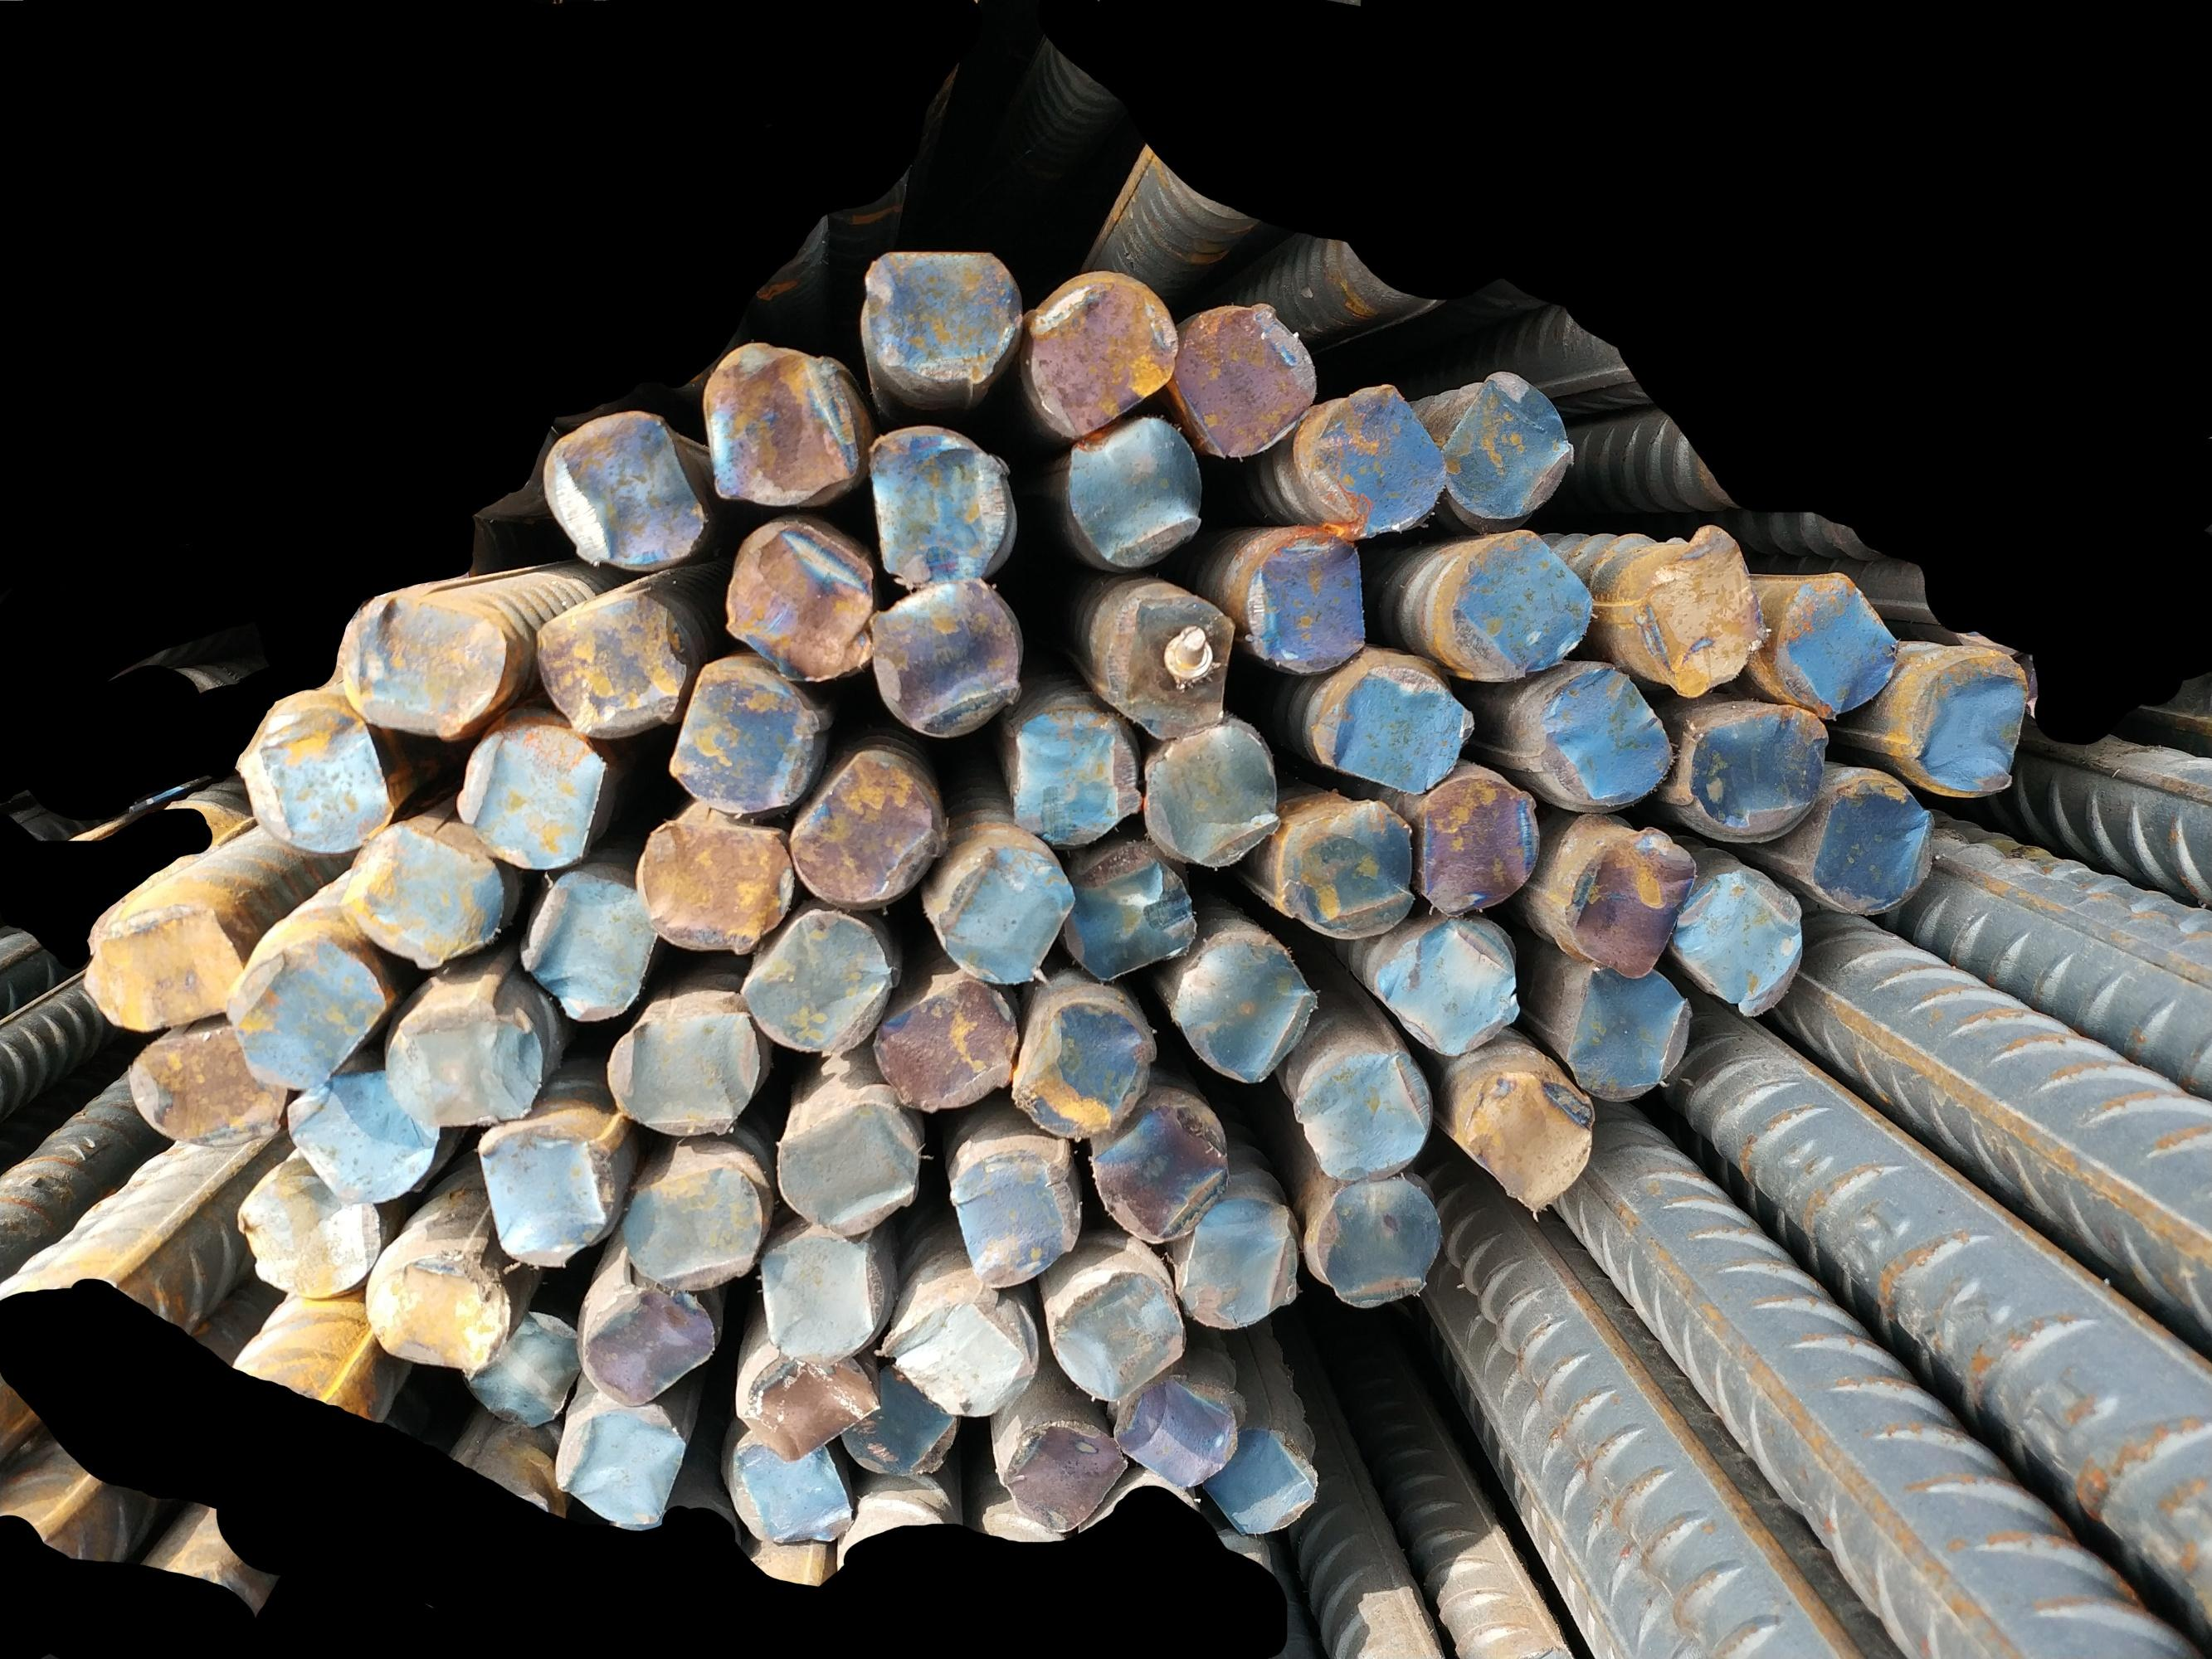bar: (1154, 293, 1328, 467), (695, 338, 856, 516), (1014, 272, 1182, 439), (863, 573, 1021, 746), (336, 586, 506, 746), (237, 690, 397, 859), (540, 411, 711, 570), (779, 746, 945, 906), (856, 416, 1009, 589), (220, 936, 389, 1091), (858, 246, 1027, 399), (657, 659, 821, 812), (1623, 528, 1766, 701), (1438, 532, 1597, 683), (1168, 934, 1318, 1094), (518, 864, 662, 1030), (1459, 1066, 1614, 1220), (453, 720, 605, 877), (80, 903, 258, 1035), (1135, 714, 1285, 871), (532, 591, 689, 739), (1288, 394, 1447, 540), (633, 817, 791, 964), (722, 530, 877, 678), (1431, 368, 1576, 526), (274, 1080, 450, 1209), (1062, 416, 1206, 573), (600, 999, 760, 1140), (614, 1159, 770, 1302), (1673, 864, 1811, 1025), (1370, 911, 1520, 1058), (469, 1124, 615, 1274), (228, 1161, 380, 1305), (1037, 1270, 1189, 1415), (1557, 953, 1698, 1107), (349, 836, 511, 969), (1527, 662, 1675, 807), (1009, 1000, 1159, 1143), (350, 1253, 518, 1380), (382, 1004, 549, 1129), (1082, 1103, 1227, 1248), (877, 1290, 1039, 1419), (872, 969, 1016, 1112), (1302, 1178, 1449, 1319), (746, 917, 894, 1056), (1285, 1047, 1440, 1180), (950, 1143, 1088, 1291), (1769, 566, 1902, 720), (1004, 709, 1147, 850), (936, 840, 1074, 986), (767, 1105, 920, 1236), (1096, 589, 1232, 735), (122, 1025, 291, 1141), (547, 1398, 690, 1535), (758, 1227, 894, 1371), (1245, 525, 1374, 676), (1565, 835, 1701, 978), (1412, 774, 1544, 918), (1900, 647, 2029, 795), (1325, 666, 1475, 791), (1691, 701, 1830, 833), (1065, 847, 1198, 978), (580, 1291, 722, 1413), (1288, 807, 1419, 938), (455, 1298, 582, 1432), (722, 1432, 865, 1551), (1811, 779, 1935, 908), (1110, 1375, 1243, 1495), (1177, 1202, 1299, 1331), (1194, 1417, 1323, 1539), (741, 1349, 884, 1459), (1001, 1420, 1128, 1539), (837, 1371, 964, 1481)
